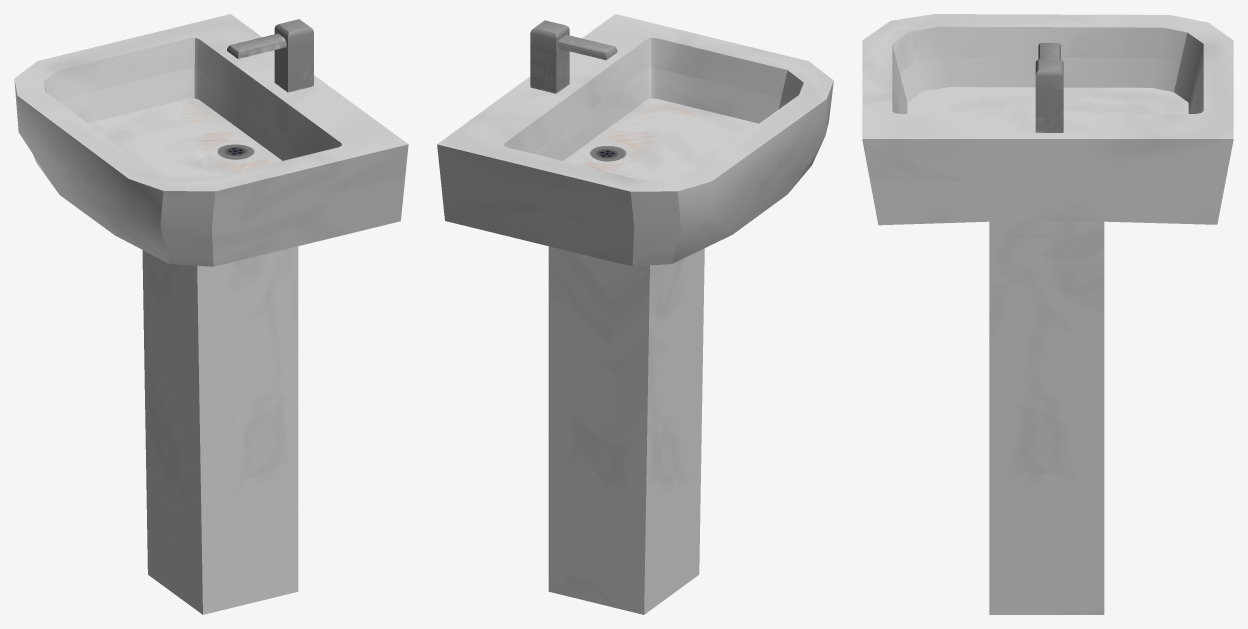
The model's file is Basin 1.fbx.
3 views of the same model, side by side, from view 1: azimuth 30°, elevation 25°; view 2: azimuth 150°, elevation 25°; view 3: azimuth 270°, elevation 25° (orthographic). The views are drawn at different scales.
Parts seen in each view (by area): view 1: Basin_Asset; view 2: Basin_Asset; view 3: Basin_Asset.
Boxes of the visible parts, x1=… form: Basin_Asset: x1=14, y1=14, x2=408, y2=614; Basin_Asset: x1=437, y1=14, x2=833, y2=614; Basin_Asset: x1=862, y1=14, x2=1233, y2=614.
Bounding box in the file's own units: 1.05 × 2.2 × 1.32.
